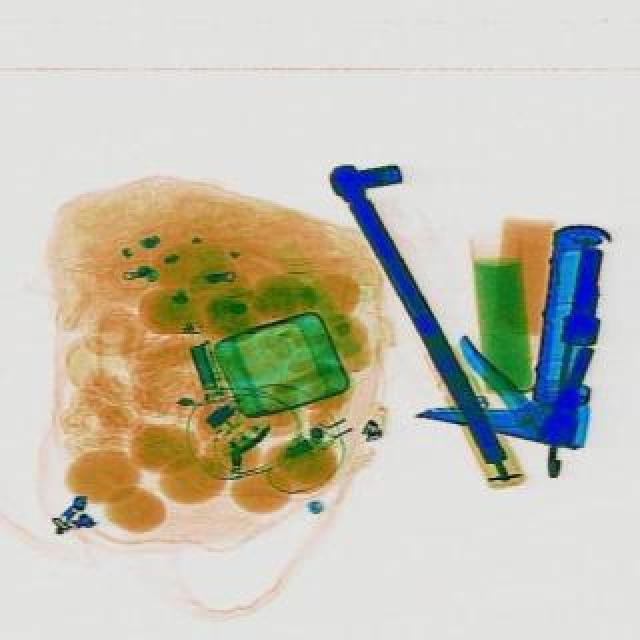knife: (410, 210, 608, 450)
